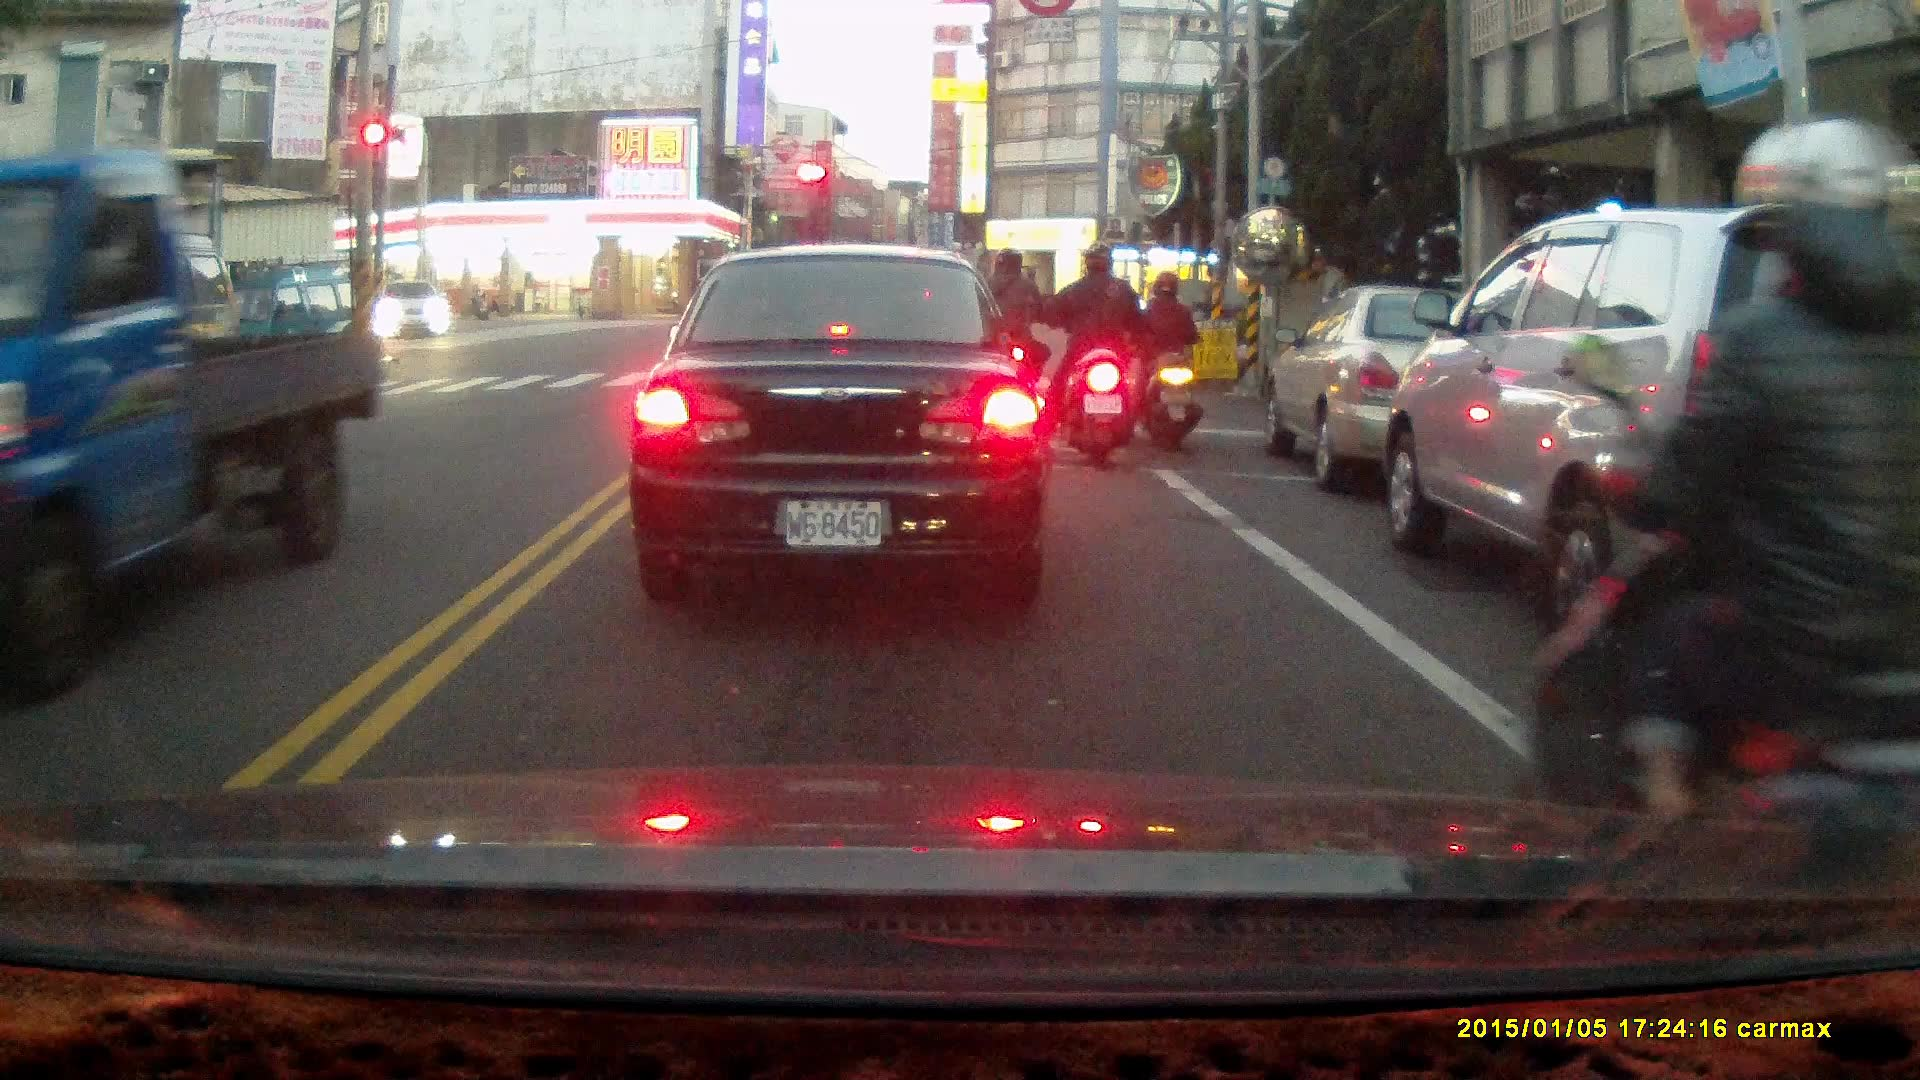rider: (1528, 115, 1920, 983), (1037, 243, 1145, 467), (964, 253, 1047, 432), (1132, 272, 1201, 451)
vehicle: (1379, 200, 1920, 681), (1, 162, 384, 678), (633, 249, 1042, 601), (1259, 287, 1572, 493), (201, 264, 387, 395), (372, 277, 451, 343)
